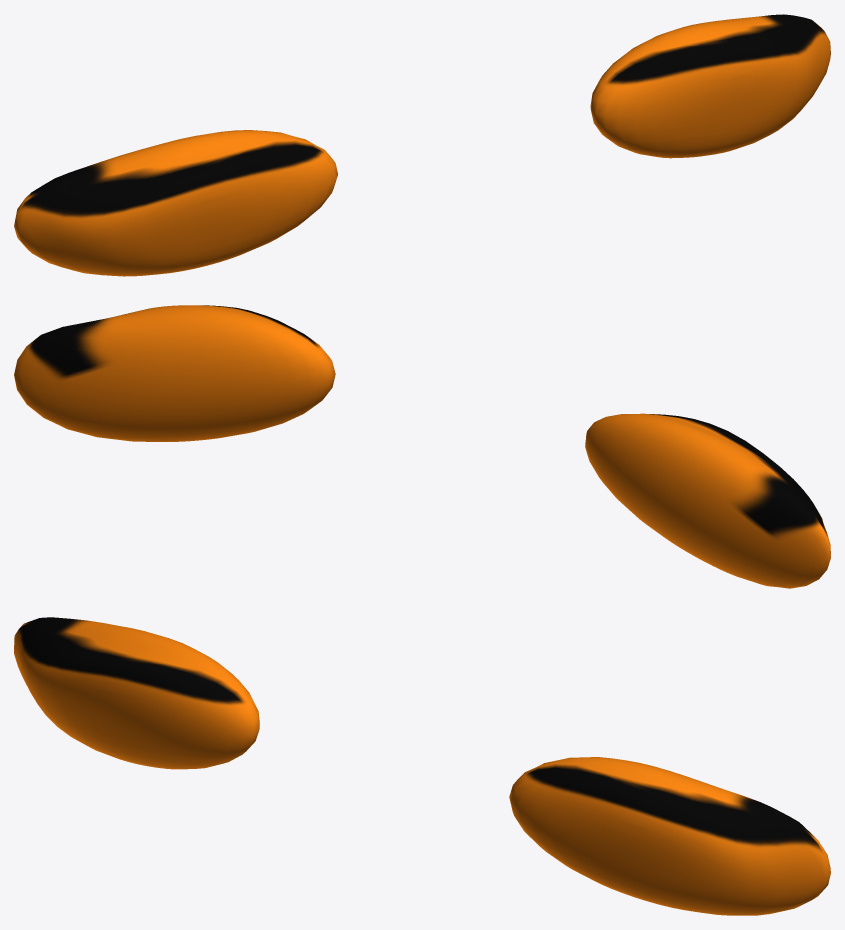
File: Zombie-Orange.glb
The picture shows the model from 3 angles, top to bottom: view 1: azimuth 30°, elevation 25°; view 2: azimuth 150°, elevation 25°; view 3: azimuth 330°, elevation 25°; orthographic projection.
Visible parts, largest first — view 1: Sphere.002; view 2: Sphere.002; view 3: Sphere.002.
Boxes of the visible parts, x1,y1,x2,y2 form: Sphere.002: [14, 14, 830, 276]; Sphere.002: [14, 305, 830, 588]; Sphere.002: [14, 617, 830, 915].
Size of the model in its own units: 0.3777 by 0.0623 by 0.0485.
1 material, 1 textured.
